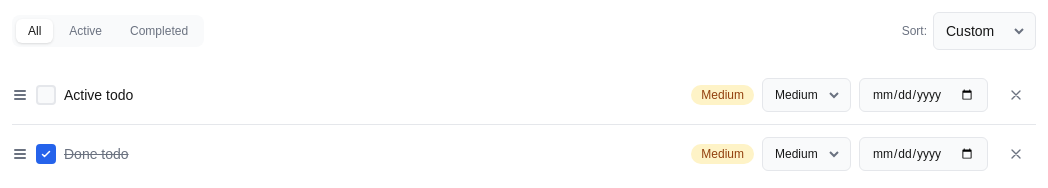
TodoFilter › shows only active todos when Active is selected (covers: AC-3)
Note: Click Active filter
Click the button with aria-label "Show active todos" at coordinates (86, 31), box left=57, top=19, right=114, bottom=43
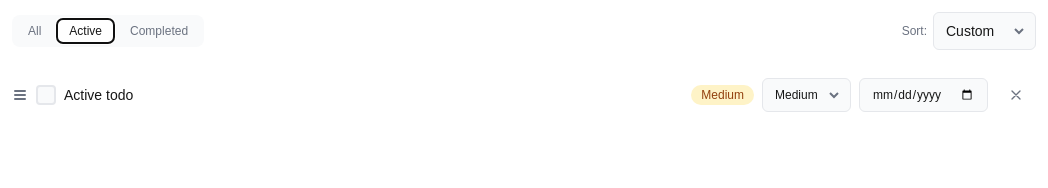
Expected: the text "Active todo" is shown, left=64, top=87, right=133, bottom=103
Expected: the text "Done todo" is gone
